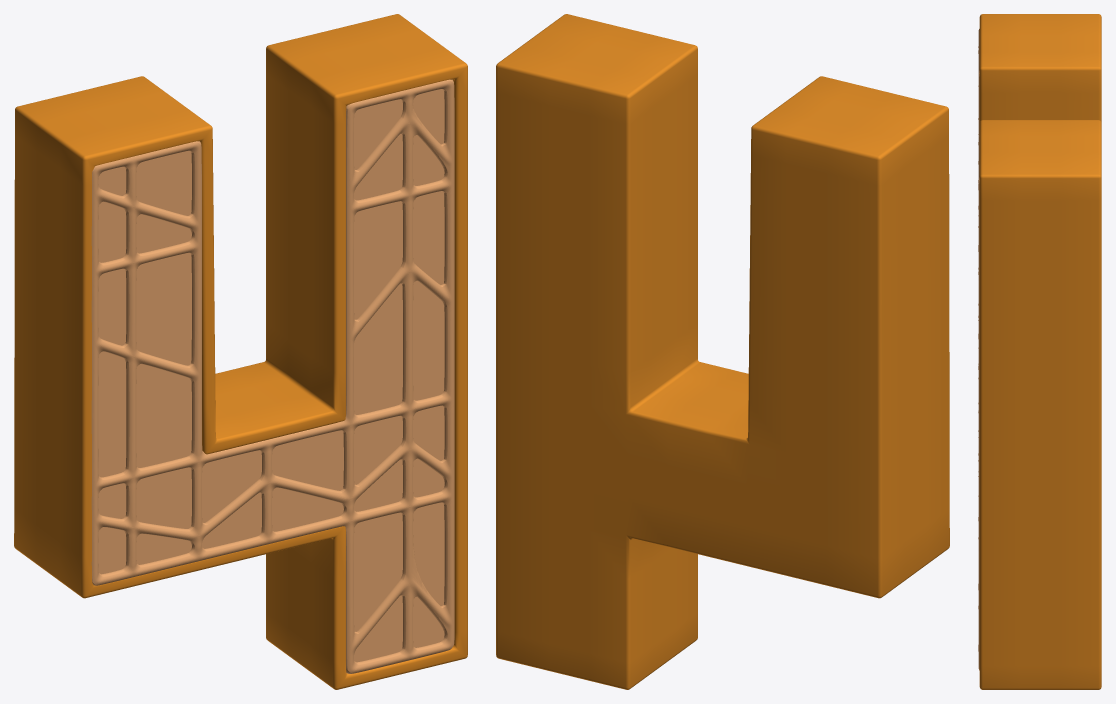
Rendered from 4_nuevo.glb.
3 renders of one model, left to right at view 1: azimuth 30°, elevation 25°; view 2: azimuth 150°, elevation 25°; view 3: azimuth 270°, elevation 25°, orthographic. The views are drawn at different scales.
Visible parts, largest first — view 1: Text.031, Plane.057, Plane.070; view 2: Text.031; view 3: Text.031, Plane.070.
Part boxes in pixels (x1,y1,x2,y2): Text.031: [14, 14, 467, 689]; Plane.057: [98, 89, 444, 662]; Plane.070: [91, 79, 454, 673]; Text.031: [496, 14, 949, 689]; Text.031: [979, 14, 1101, 689]; Plane.070: [978, 29, 979, 670].
Bounding box in the file's own units: 1.84 × 2.71 × 0.5864.
